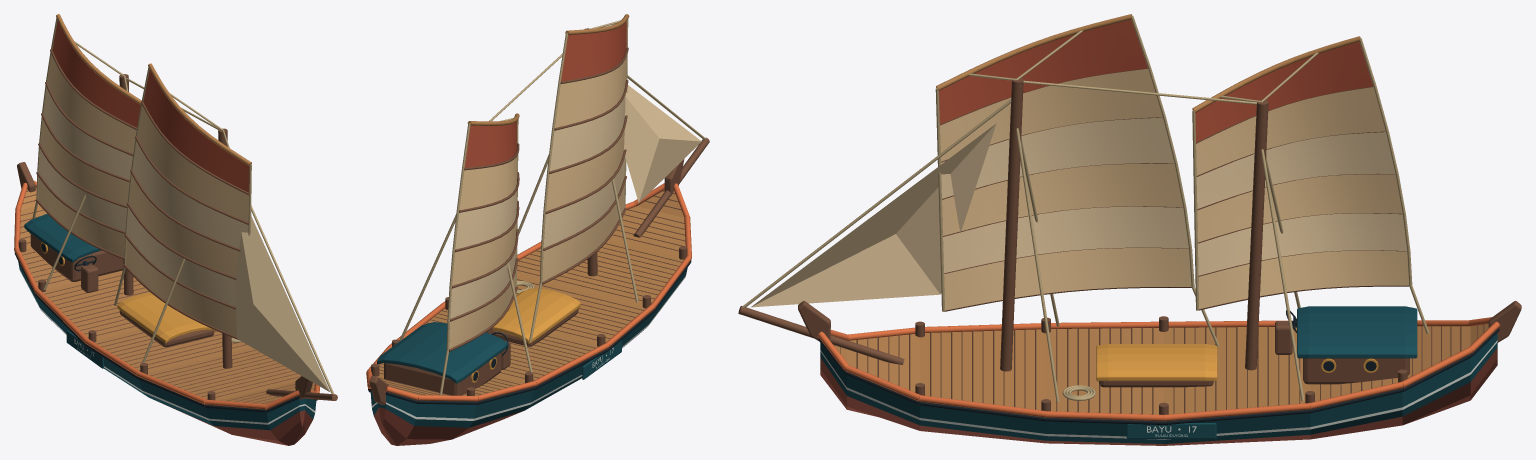
The picture shows the model from 3 angles, left to right: view 1: azimuth 30°, elevation 25°; view 2: azimuth 150°, elevation 25°; view 3: azimuth 270°, elevation 25°; orthographic projection. The views are drawn at different scales.
Visible parts, largest first — view 1: Duyong Pinas; view 2: Duyong Pinas; view 3: Duyong Pinas.
Part boxes in pixels (x1,y1,x2,y2): Duyong Pinas: (14,14,337,445); Duyong Pinas: (366,14,709,445); Duyong Pinas: (738,14,1521,445).
Bounding box in the file's own units: 3.45 × 6.7 × 11.86.
